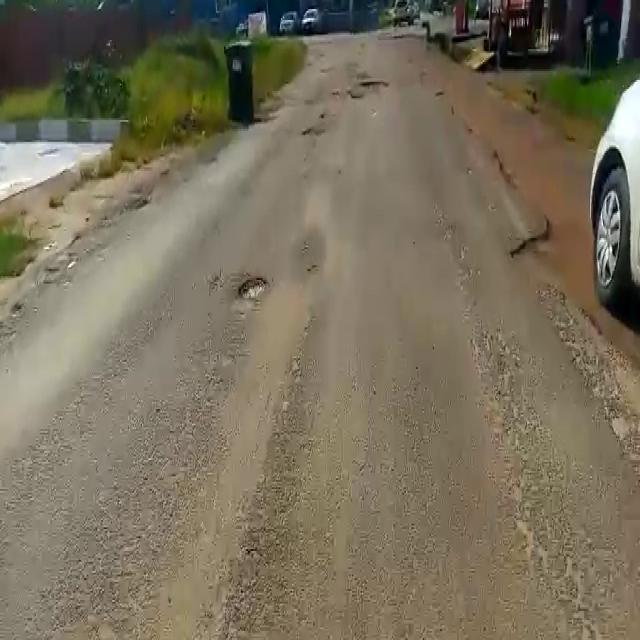pothole: (231, 271, 276, 302), (297, 123, 325, 137)
